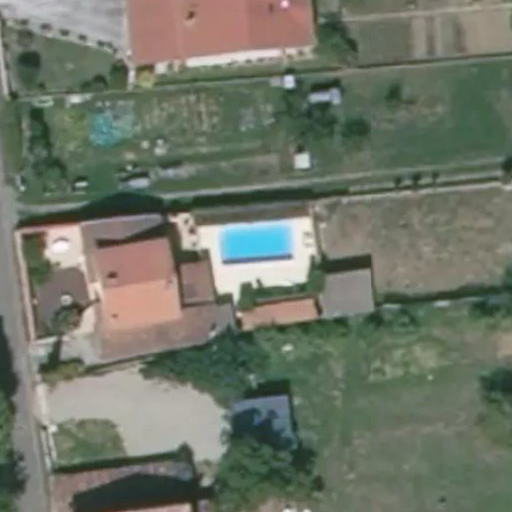pool: (217, 227, 294, 256)
